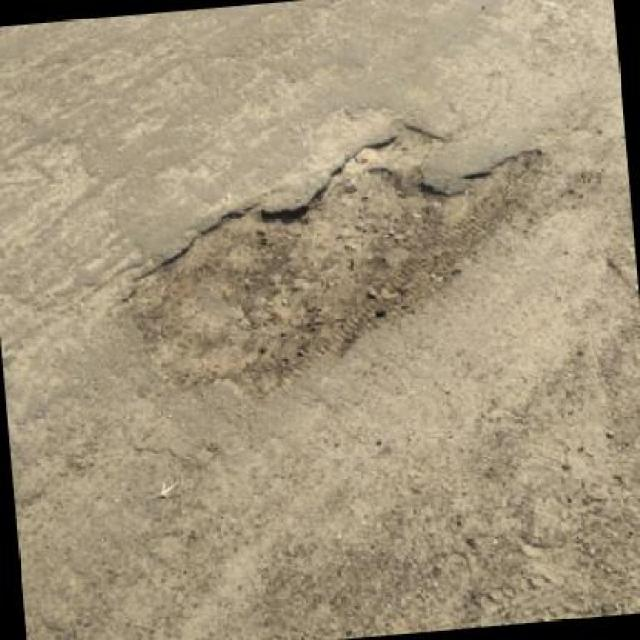pothole: (96, 104, 569, 425)
